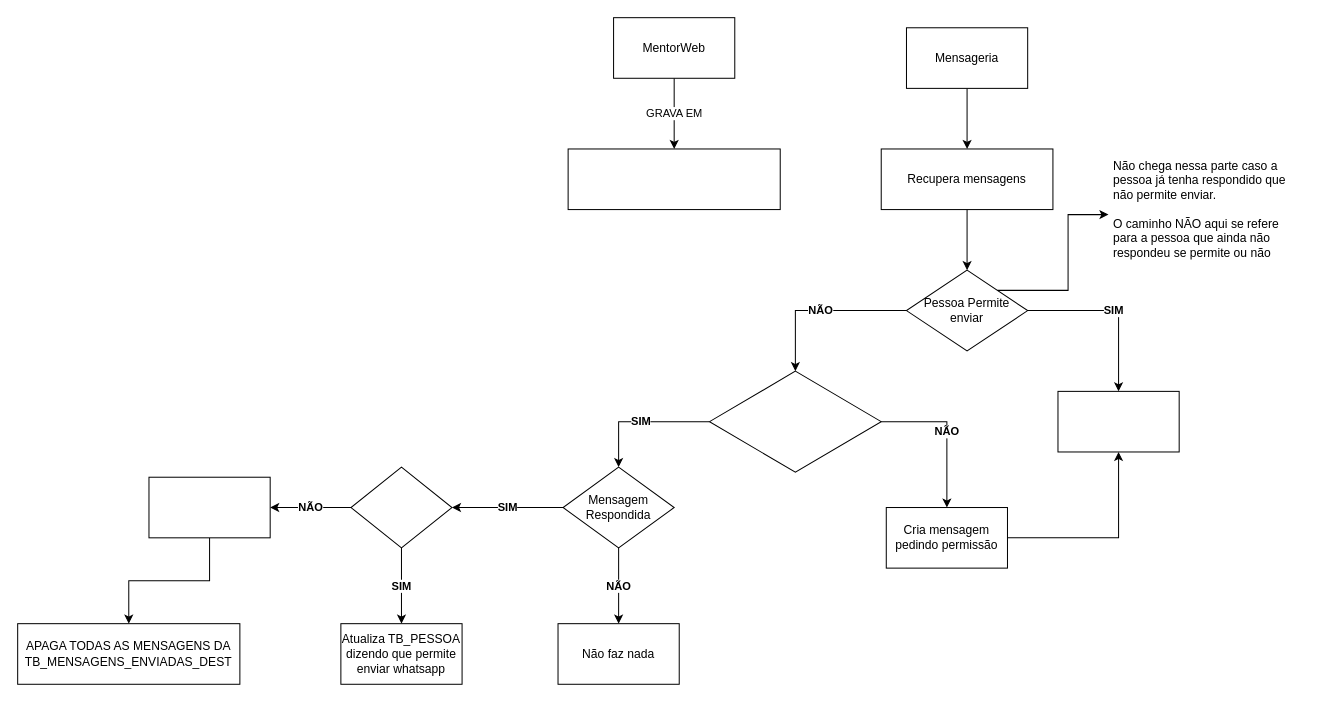
This 1318x702 diagram has some shape labels left out. Here are the shapes that lost their labels. From the top down, the centre of each, then its label:
pixel 673 179: TB_MENSAGENS_ENVIADAS TB_MENSAGENS_ENVIADAS_DEST
pixel 795 421: Mensagem pedindo permissão já enviada
pixel 1118 421: Envia mensagem para o whatsapp
pixel 209 507: Atualiza TB_PESSOA dizendo que NÃO permite enviar whatsapp
pixel 401 507: Respondeu permitindo
